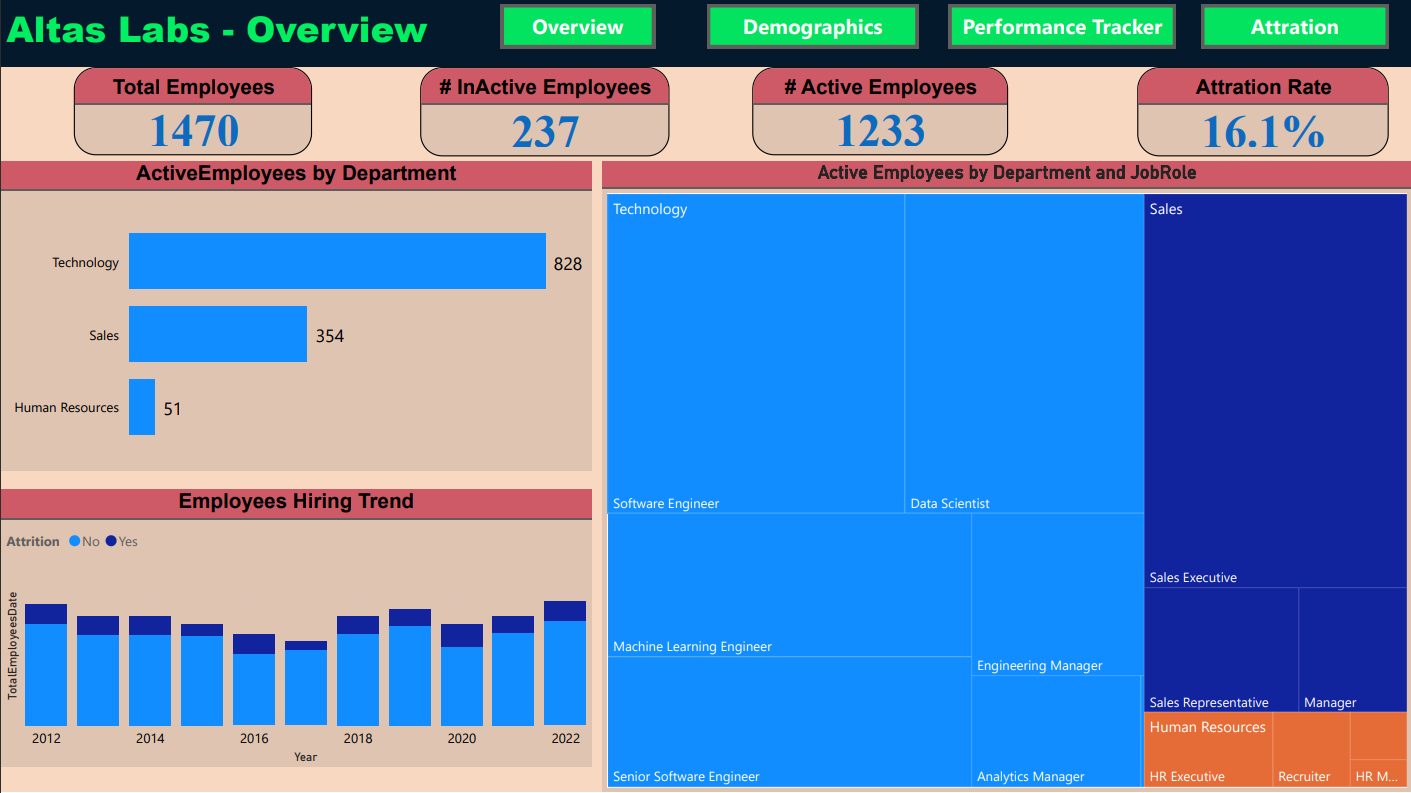

This screenshot's page, from the dashboard's own definition file:
{"tool":"powerbi","page":{"name":"Overview","canvas":[1280,720],"ordinal":0},"visuals":[{"type":"card","title":"Total Employees","fields":{"Values":["_Measures.Total Employees"]},"box":[66.3,62.7,215.9,79.6],"z":0},{"type":"card","title":"# InActive Employees","fields":{"Values":["_Measures.InActiveEmployees"]},"box":[379.9,62.7,225.5,80.8],"z":1000},{"type":"card","title":"# Active Employees","fields":{"Values":["_Measures.ActiveEmployees"]},"box":[681.4,62.7,231.6,79.6],"z":2000},{"type":"card","title":"Attration Rate","fields":{"Values":["_Measures.% Attration Rate"]},"box":[1029.9,62.7,227.9,80.8],"z":3000},{"type":"columnChart","title":"Employees Hiring Trend","fields":{"Y":["_Measures.TotalEmployeesDate"],"Category":["DimDate.Date.Variation.Date Hierarchy.Year","DimDate.Date.Variation.Date Hierarchy.Quarter","DimDate.Date.Variation.Date Hierarchy.Month","DimDate.Date.Variation.Date Hierarchy.Day"],"Series":["DimEmployee.Attrition"]},"box":[0,446.2,535.5,252.1],"z":4000},{"type":"clusteredBarChart","fields":{"Y":["_Measures.ActiveEmployees"],"Category":["DimEmployee.Department"]},"box":[0,148.3,535.5,281],"z":5000},{"type":"treemap","title":"Active Employees by Department and JobRole","fields":{"Group":["DimEmployee.Department"],"Values":["_Measures.ActiveEmployees"],"Details":["DimEmployee.JobRole"]},"box":[545.1,148.3,734.5,571.7],"z":6000},{"type":"textbox","box":[0,0,1280.8,62.7],"z":7000},{"type":"actionButton","box":[453.5,6,139.9,39.8],"z":8000},{"type":"actionButton","box":[640.4,6,191.8,39.8],"z":9000},{"type":"actionButton","box":[858.7,6,206.2,39.8],"z":10000},{"type":"actionButton","box":[1087.8,6,170.1,39.8],"z":11000}]}

Visuals, with their boxes in screenshot pixels (x1, y1, x2, y2), scaled from the page's 1280x720 canvas onto the 1411x793 screenshot:
"Total Employees" card: (left=73, top=69, right=311, bottom=157)
"# InActive Employees" card: (left=419, top=69, right=667, bottom=158)
"# Active Employees" card: (left=751, top=69, right=1006, bottom=157)
"Attration Rate" card: (left=1135, top=69, right=1387, bottom=158)
"Employees Hiring Trend" columnChart: (left=0, top=491, right=590, bottom=769)
clusteredBarChart - _Measures.ActiveEmployees x DimEmployee.Department: (left=0, top=163, right=590, bottom=473)
"Active Employees by Department and JobRole" treemap: (left=601, top=163, right=1410, bottom=792)
textbox: (left=0, top=0, right=1410, bottom=69)
actionButton: (left=500, top=7, right=654, bottom=50)
actionButton: (left=706, top=7, right=917, bottom=50)
actionButton: (left=947, top=7, right=1174, bottom=50)
actionButton: (left=1199, top=7, right=1387, bottom=50)
